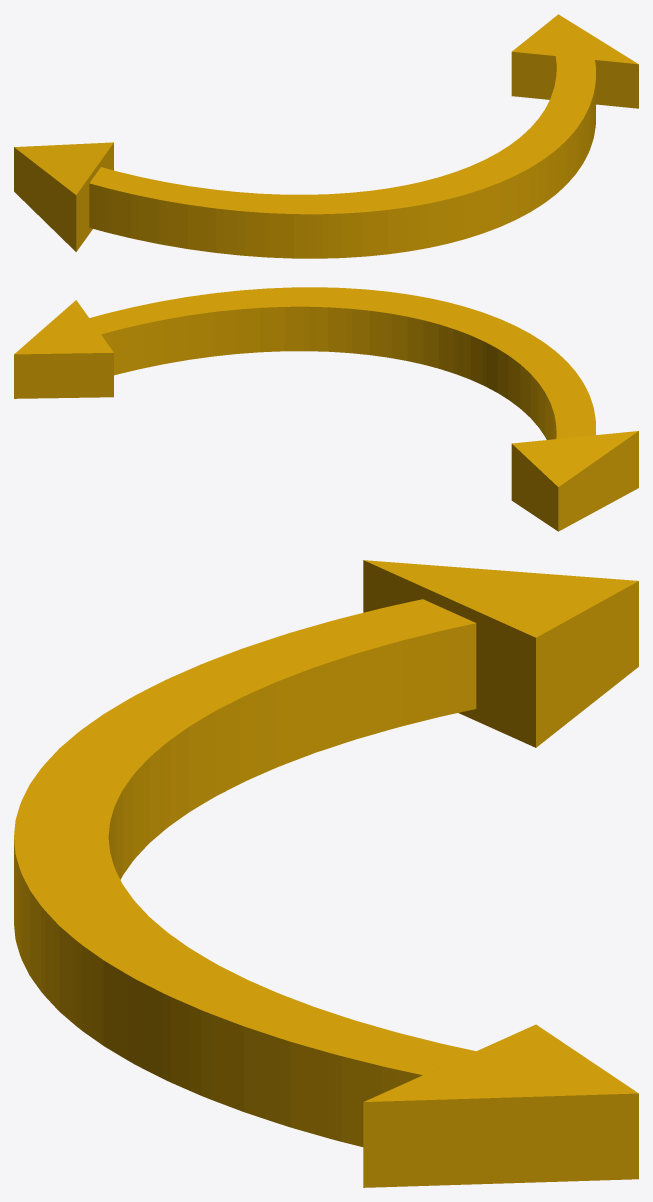
Rendered from Nyil6-optimized.glb.
3 renders of one model, top to bottom at view 1: azimuth 30°, elevation 25°; view 2: azimuth 150°, elevation 25°; view 3: azimuth 270°, elevation 25°, orthographic. The views are drawn at different scales.
Visible parts, largest first — view 1: Cube; view 2: Cube; view 3: Cube.
Boxes of the visible parts, left/top/right/bottom form: Cube: left=14, top=14, right=638, bottom=258; Cube: left=14, top=287, right=638, bottom=531; Cube: left=14, top=560, right=638, bottom=1187.
Bounding box in the file's own units: 26.49 × 2.57 × 13.21.
